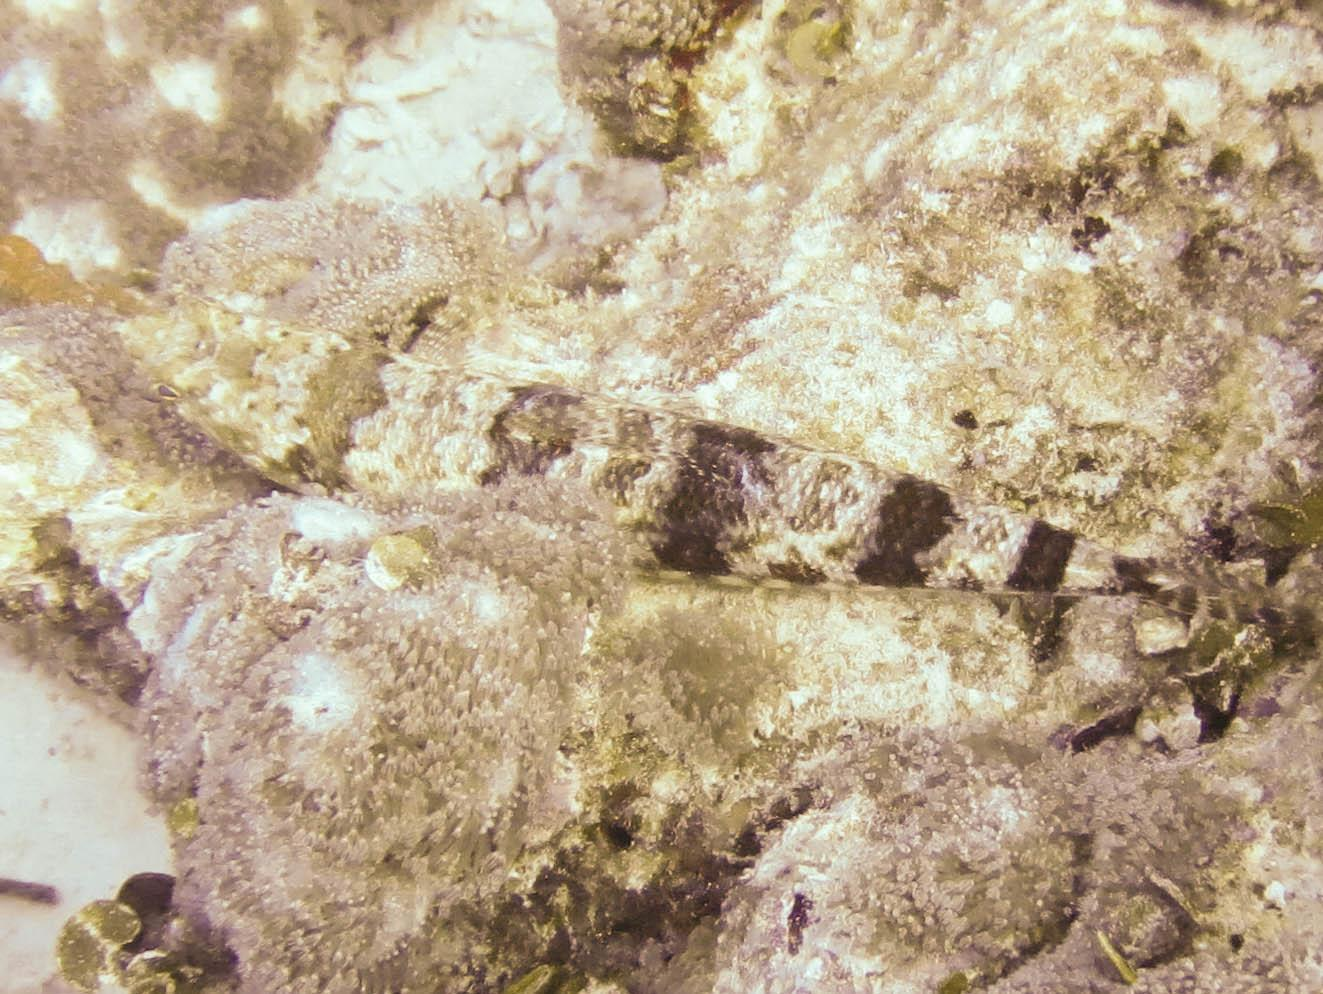Fish: (139, 270, 1297, 715)
